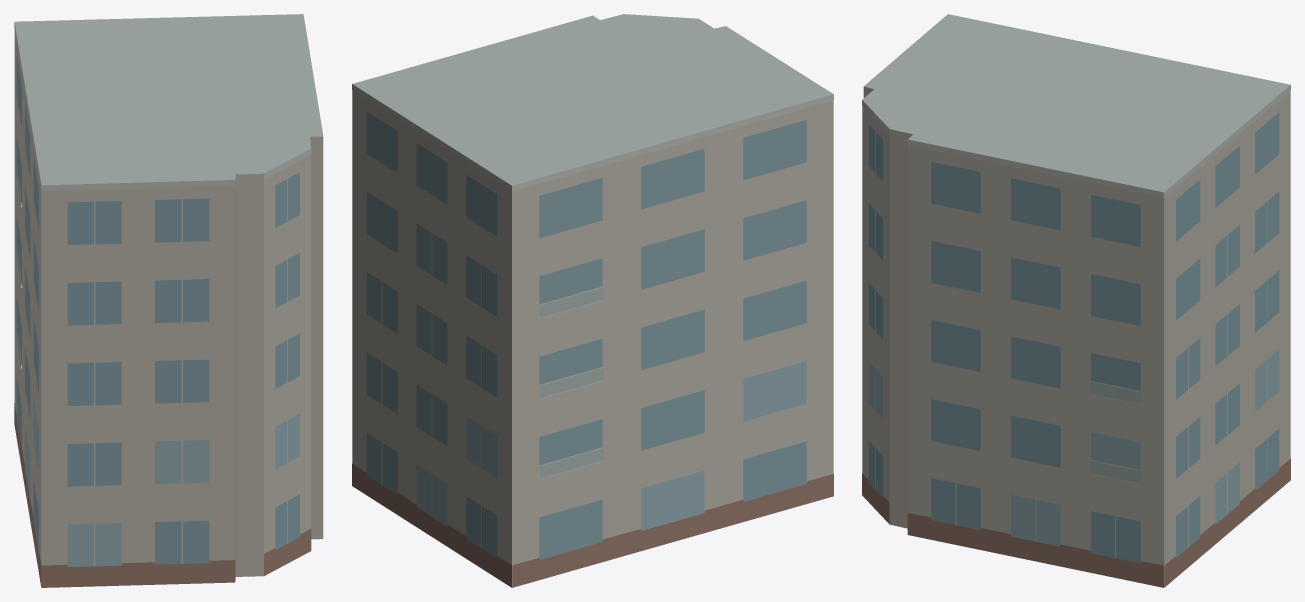
Rendered from survey-upis-33037669.glb.
3 views of the same model, side by side, from view 1: azimuth 30°, elevation 25°; view 2: azimuth 150°, elevation 25°; view 3: azimuth 270°, elevation 25° (orthographic).
Parts seen in each view (by area): view 1: survey-upis-33037669.tmp; view 2: survey-upis-33037669.tmp; view 3: survey-upis-33037669.tmp.
Boxes of the visible parts, box(x1,y1,x2,y2) form: survey-upis-33037669.tmp: box(14, 14, 323, 587); survey-upis-33037669.tmp: box(352, 14, 833, 587); survey-upis-33037669.tmp: box(862, 14, 1290, 587).
Bounding box in the file's own units: 15.97 × 16.5 × 16.22.
